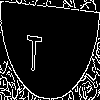T: (25, 25, 43, 73)
